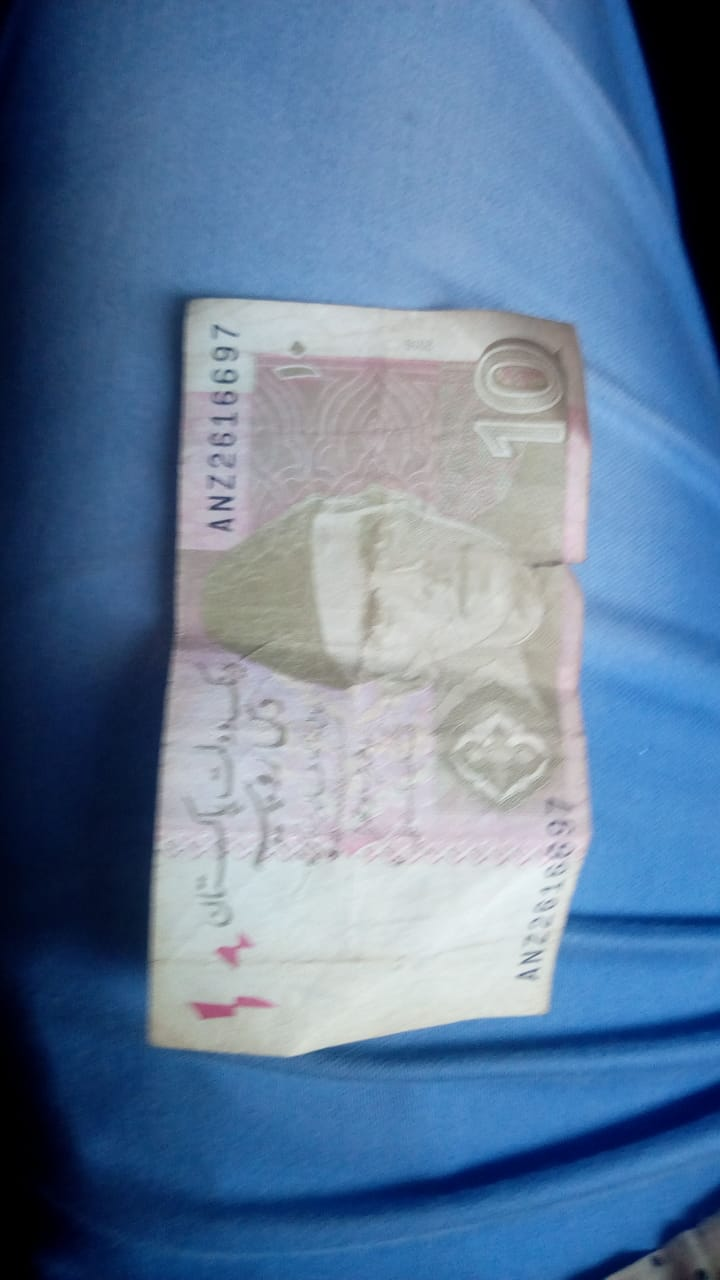10 rupee: (134, 256, 627, 1149)
